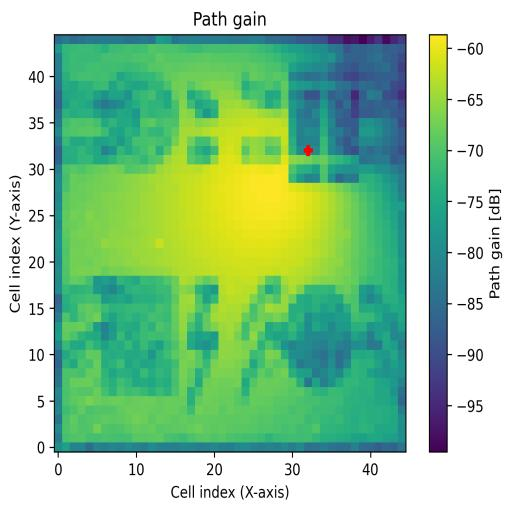Concrete: (288, 62, 359, 183)
Glass: (94, 59, 179, 164)
Metal: (274, 277, 351, 389)
Wood: (93, 275, 180, 397)
